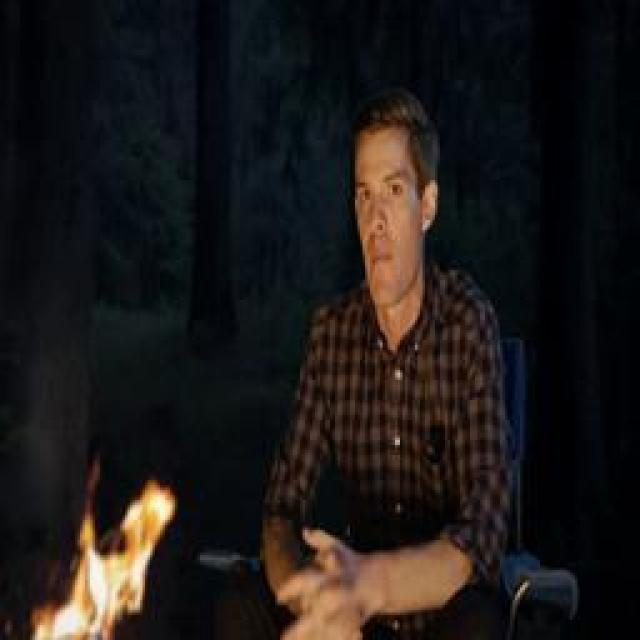Fire: (28, 470, 174, 640)
